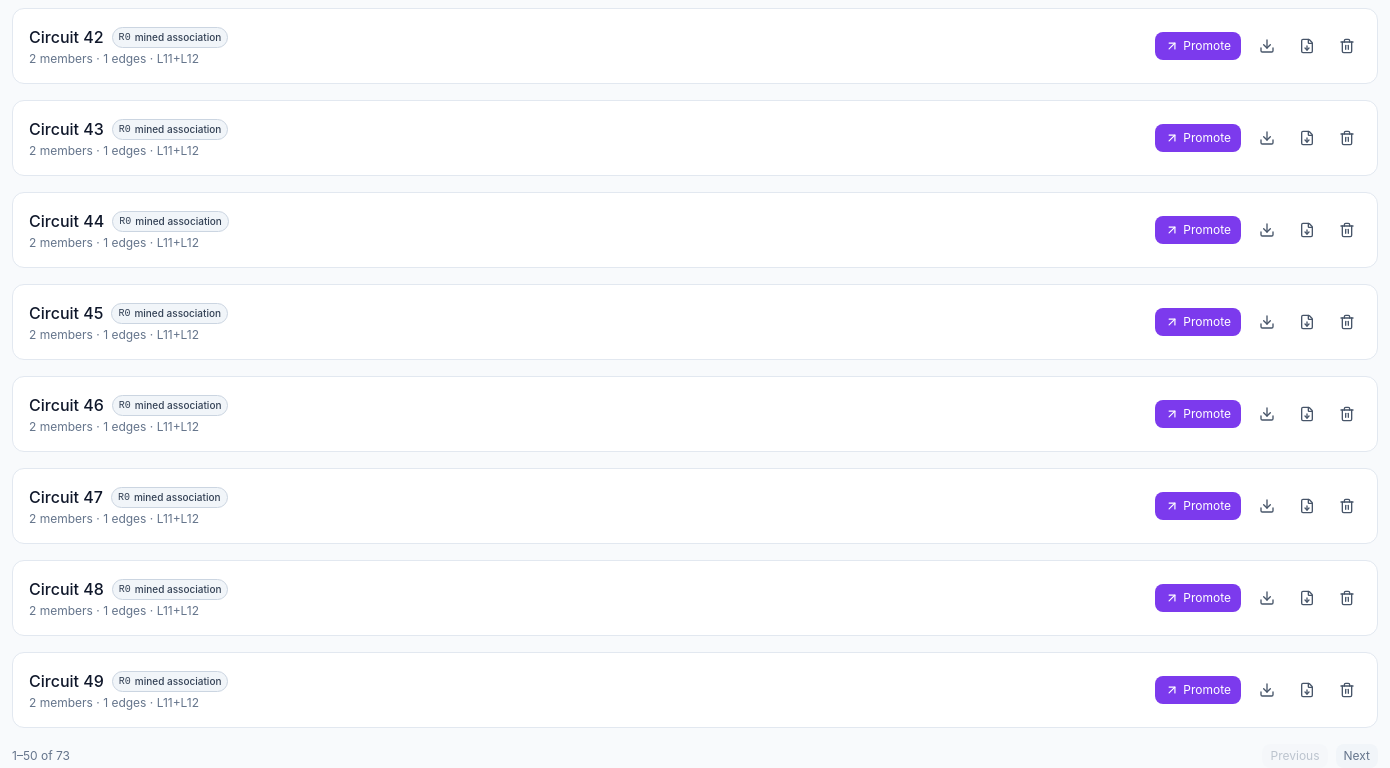
Scenario: CircuitsListTab is driven by the store › says how many circuits exist and pages to the next 50
(page scrolled)
Expected: the text "1–50 of 73" is shown, [12,748,70,764]
Click the button "Next": click(1357, 756) [1336,744,1378,767]
(page scrolled)
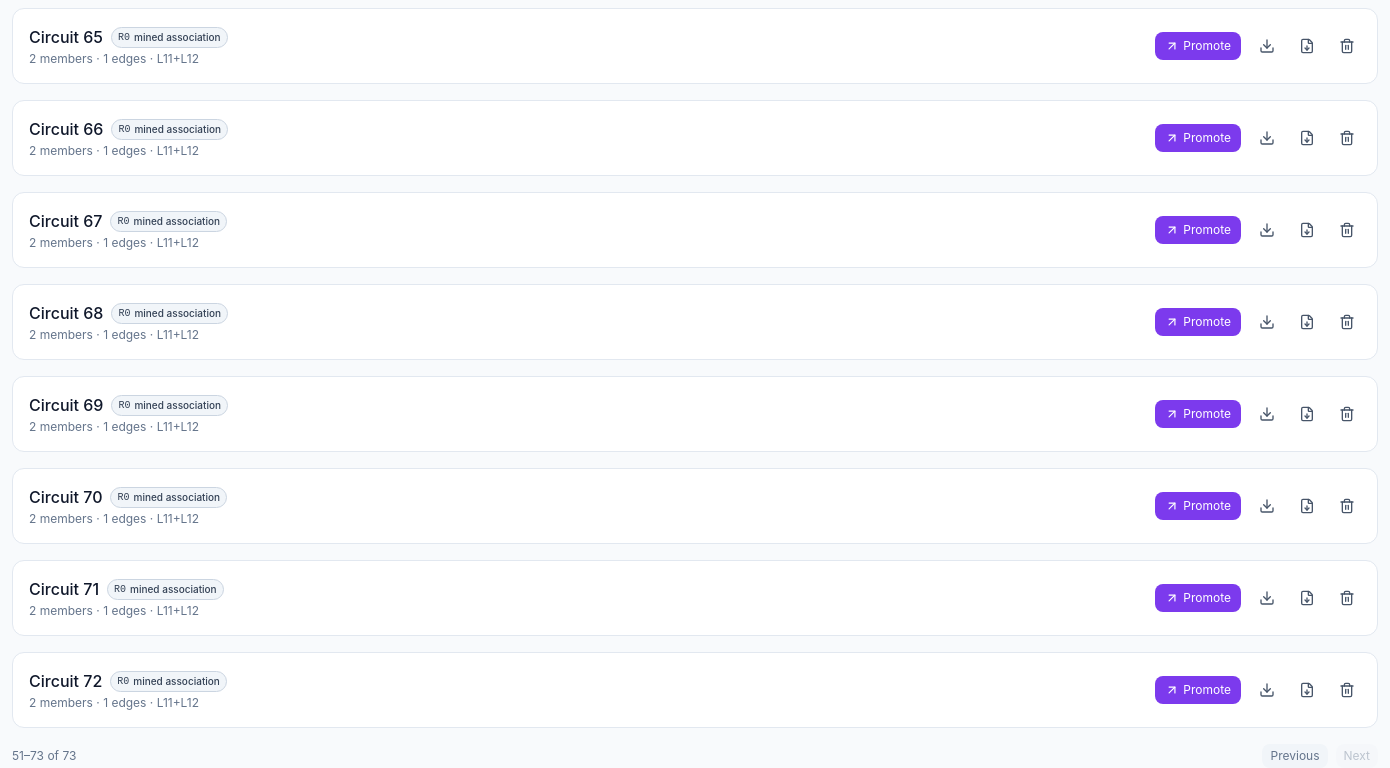
Now the text "51–73 of 73" is shown, box [12,748,76,764]
Now the button "Next" is disabled, box [1336,744,1378,767]
